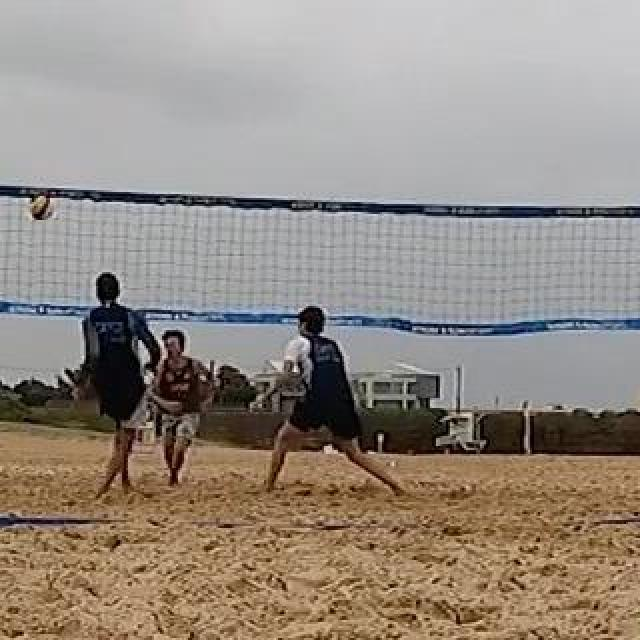volleyball: (27, 196, 49, 220)
